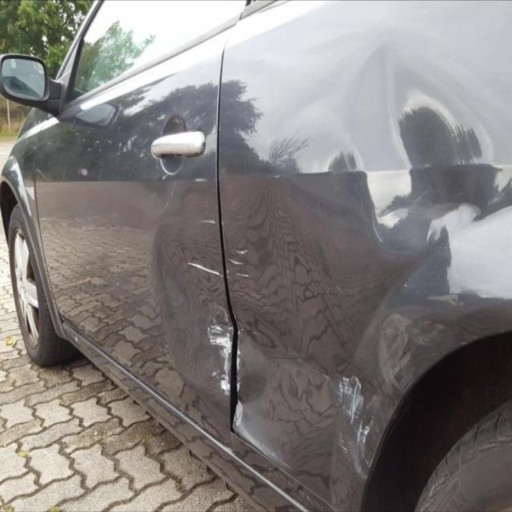dent: (141, 33, 505, 508)
scratch: (337, 371, 373, 475), (202, 299, 233, 397), (233, 309, 244, 428), (182, 262, 223, 277), (221, 227, 230, 284), (228, 256, 242, 266), (236, 247, 249, 257), (201, 218, 216, 226), (237, 272, 251, 279), (194, 177, 207, 183), (323, 372, 333, 379), (271, 171, 280, 178), (250, 330, 257, 337), (402, 284, 409, 287)
